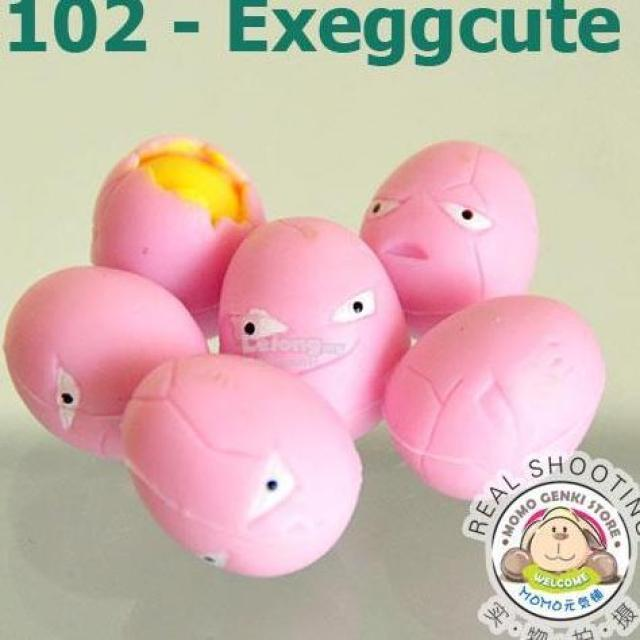Exeggcute: (0, 152, 617, 572)
